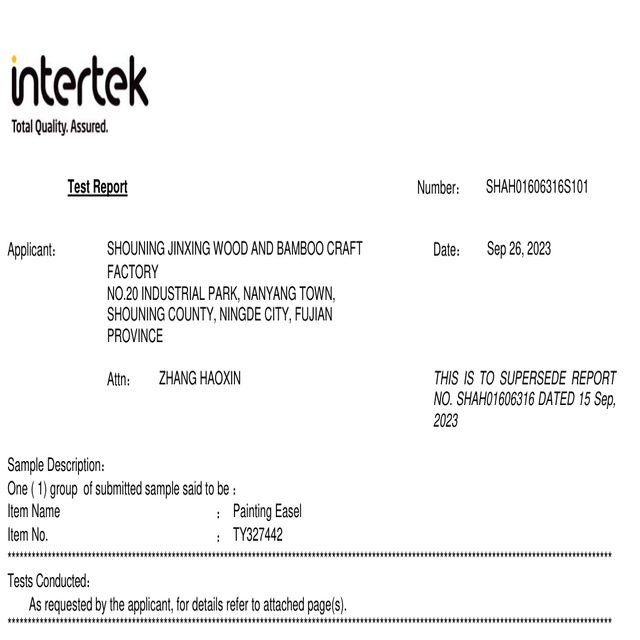intertek: (3, 52, 155, 112)
